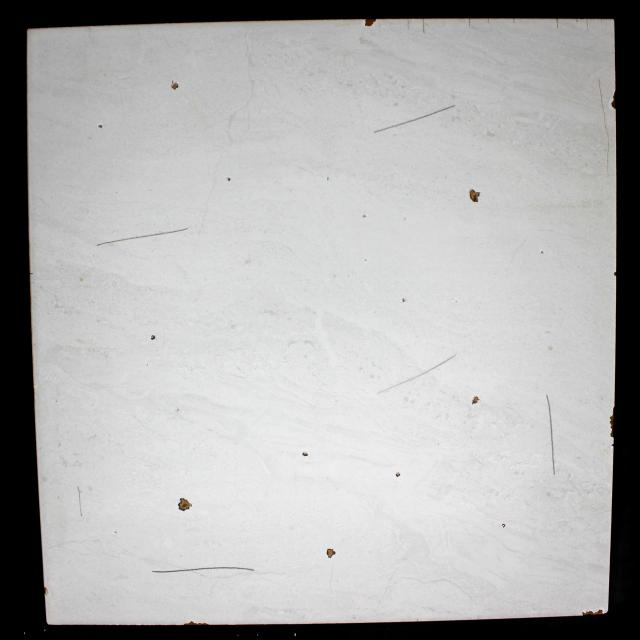edge-chipping: (363, 18, 378, 28), (610, 90, 616, 110), (609, 415, 615, 429), (582, 610, 594, 616), (183, 620, 197, 625), (43, 586, 49, 596), (596, 609, 604, 615), (198, 622, 210, 625), (610, 430, 614, 438), (613, 270, 617, 276), (612, 406, 615, 414), (611, 444, 614, 446)
hole: (177, 497, 193, 512), (468, 189, 482, 203), (170, 79, 180, 91), (326, 548, 336, 559), (302, 451, 309, 458), (395, 471, 401, 478), (150, 334, 156, 341), (501, 523, 507, 529), (97, 124, 103, 129), (402, 297, 406, 303), (226, 177, 231, 181), (540, 250, 545, 254)
line: (377, 374, 422, 394), (150, 566, 256, 574), (423, 352, 457, 374), (546, 394, 555, 476), (415, 105, 455, 120), (374, 120, 414, 133), (97, 236, 147, 246), (603, 115, 610, 175), (148, 228, 188, 236), (598, 78, 605, 114), (77, 485, 83, 517), (471, 395, 481, 406), (556, 18, 559, 29), (423, 18, 425, 34)
